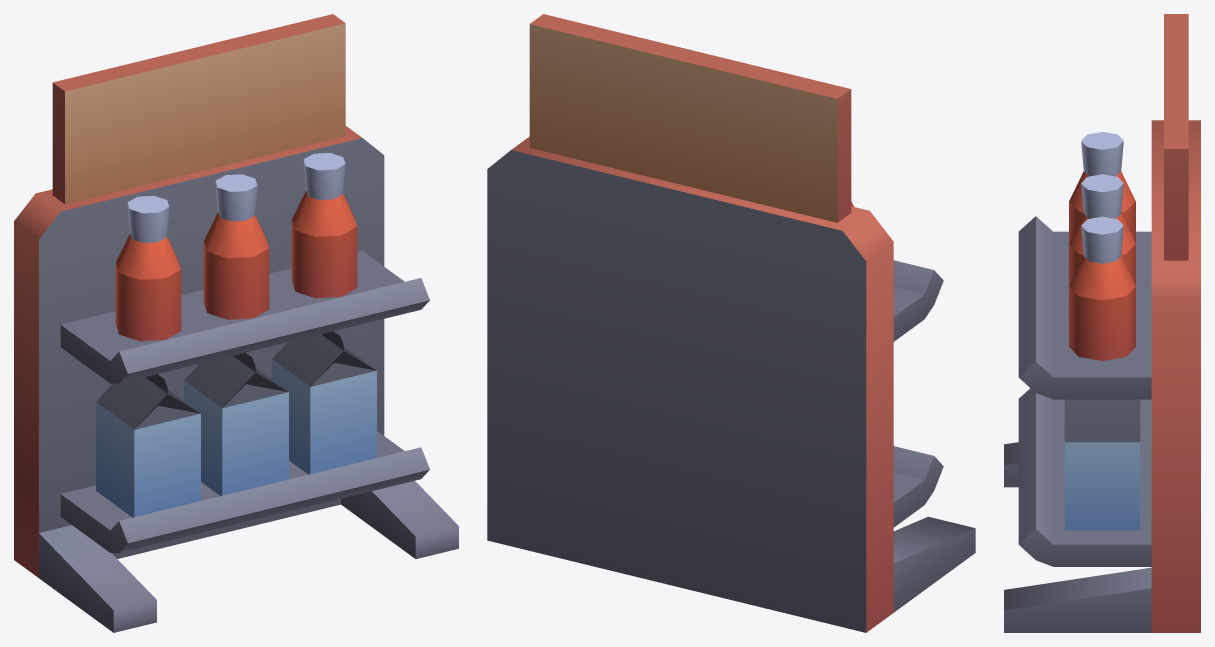
The model's file is shelf-end.obj.
3 renders of one model, left to right at view 1: azimuth 30°, elevation 25°; view 2: azimuth 150°, elevation 25°; view 3: azimuth 270°, elevation 25°, orthographic. The views are drawn at different scales.
Parts seen in each view (by area): view 1: shelf-end, Group, carton, bottle; view 2: shelf-end, Group; view 3: shelf-end, bottle, carton, Group.
Part boxes in pixels (<box>): shelf-end: <box>14,126,458,632</box>; Group: <box>52,14,345,204</box>; carton: <box>96,331,376,517</box>; bottle: <box>115,153,357,341</box>; shelf-end: <box>487,136,975,632</box>; Group: <box>529,14,851,222</box>; shelf-end: <box>1004,120,1200,632</box>; bottle: <box>1069,132,1135,360</box>; carton: <box>1064,399,1140,530</box>; Group: <box>1164,14,1188,260</box>.
Bounding box in the file's own units: 0.8 × 1.05 × 0.4.
